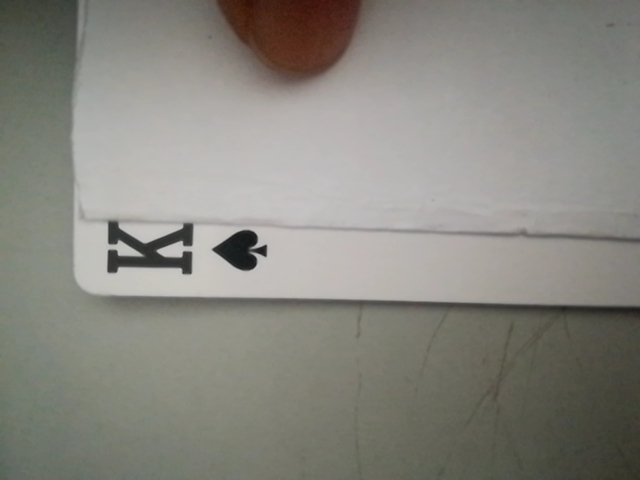ht k: (78, 213, 273, 290)
